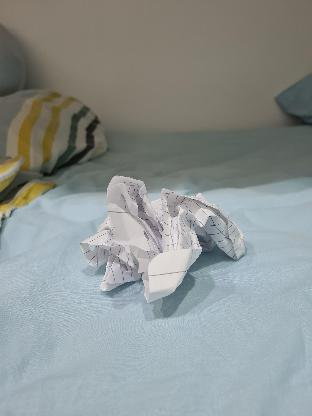Paper: (89, 169, 251, 297)
